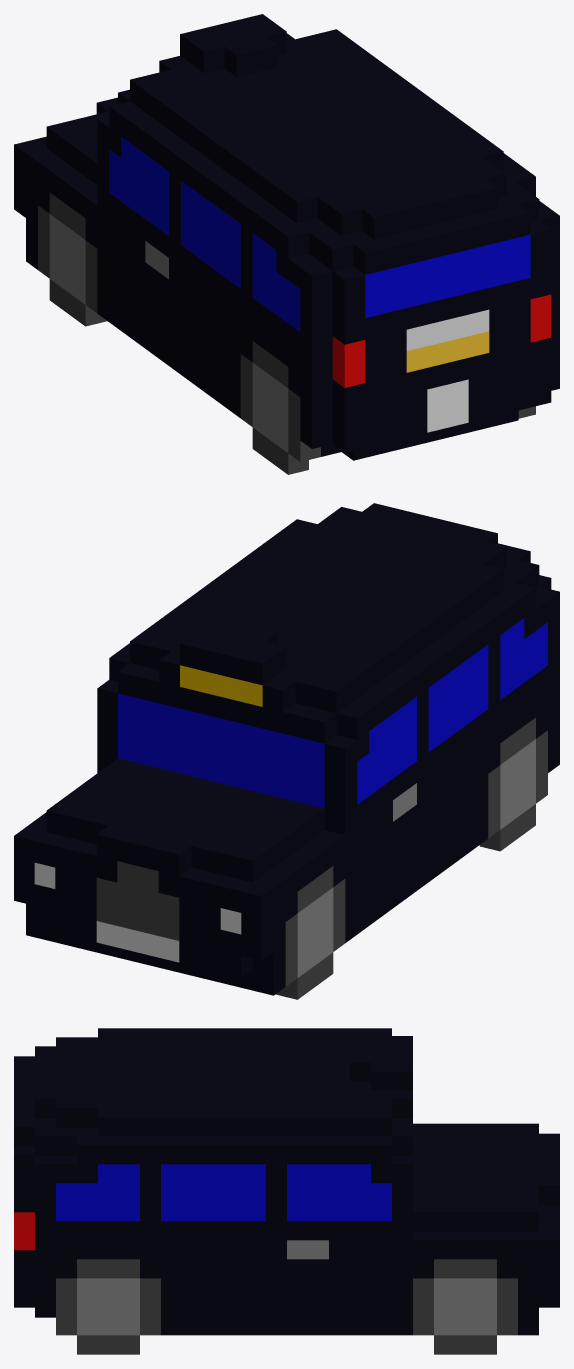
The model's file is veh_BlackCab.obj.
3 renders of one model, top to bottom at view 1: azimuth 30°, elevation 25°; view 2: azimuth 150°, elevation 25°; view 3: azimuth 270°, elevation 25°, orthographic. The views are drawn at different scales.
Size of the model in its own units: 1.2 by 1.3 by 2.6.
Materials: 1 (1 with a texture image).
